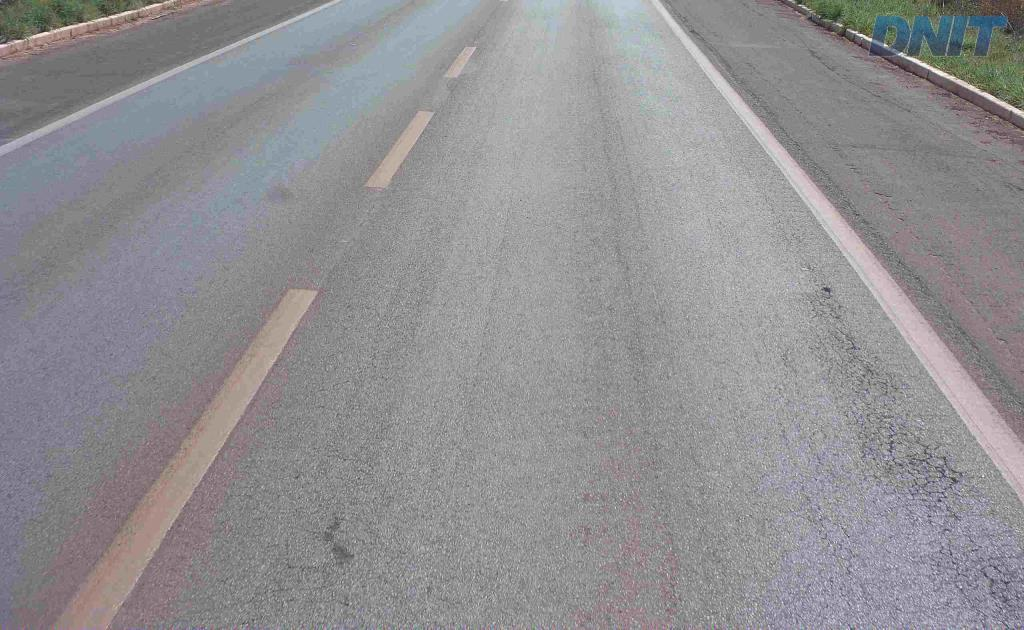crack: (872, 411, 963, 503), (979, 560, 1023, 623)
